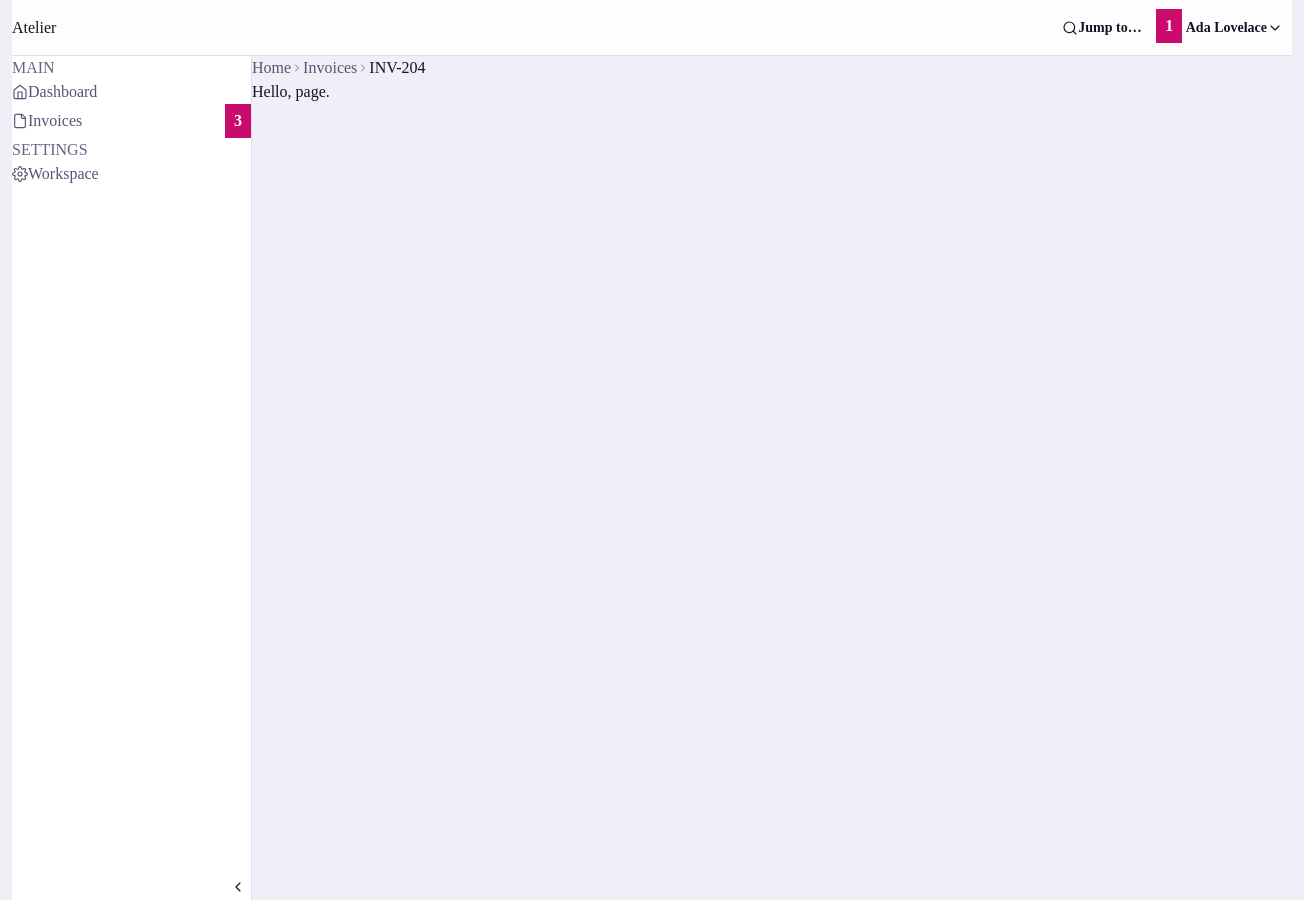
Test: AppShellComponent › renders the desktop sidebar with section titles, links, badges, and a collapse toggle
Expected: the element with class "ds-shell__sidebar" shows "Main", [12,59,55,76]
Expected: the element with class "ds-shell__sidebar" shows "Settings", [12,141,88,158]
Click the button named "Collapse sidebar": (238, 887) [225,874,251,899]
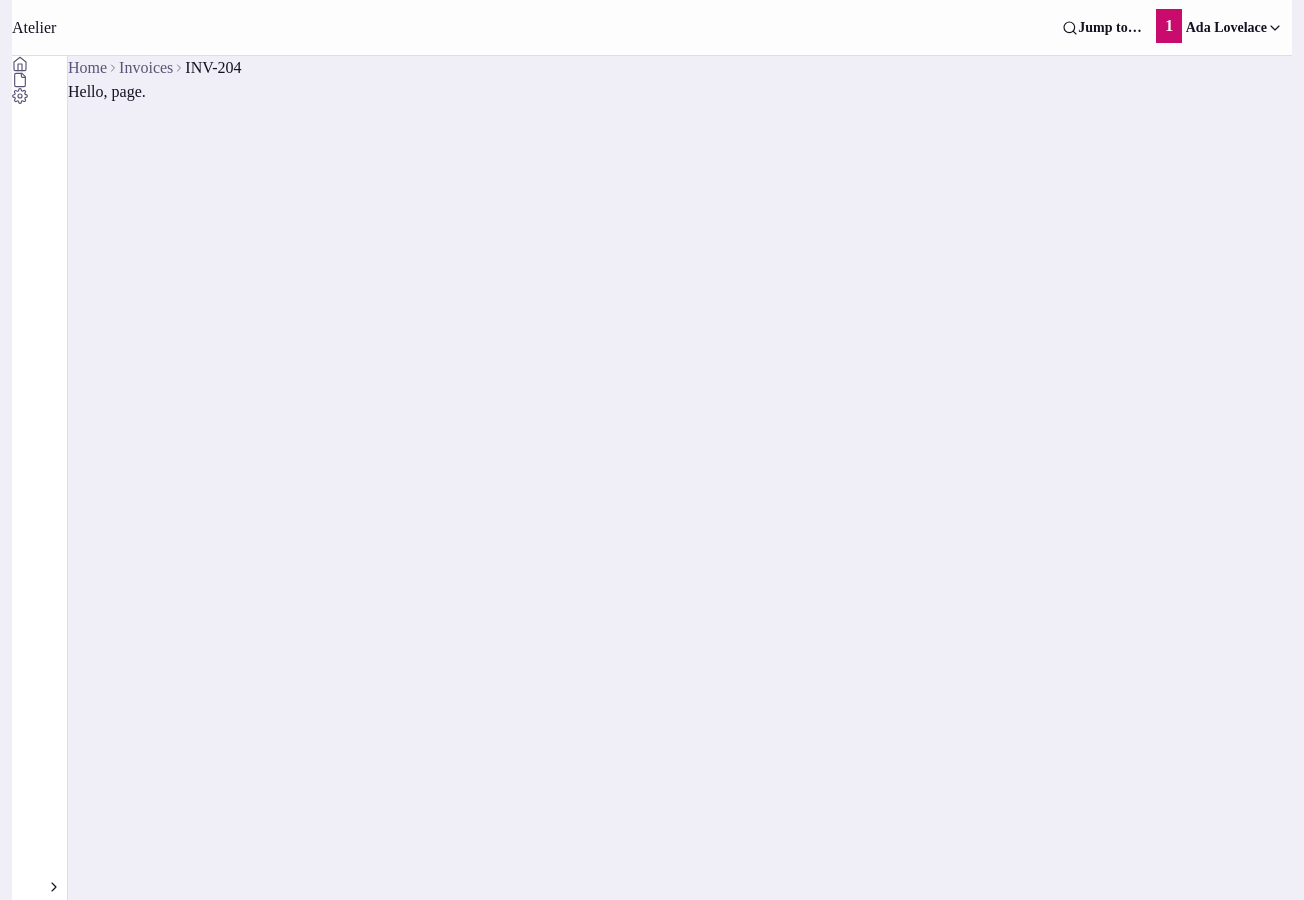
Expected: the text with class "ds-shell__nav-label" is gone
